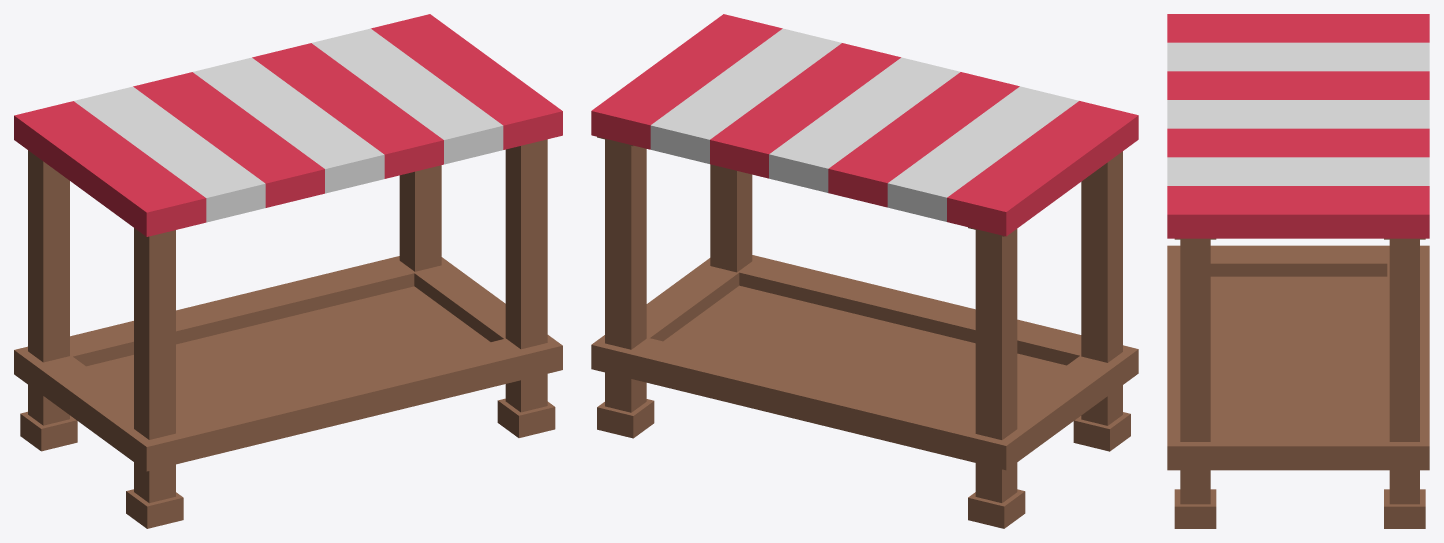
Rendered from market stall1.fbx.
3 views of the same model, side by side, from view 1: azimuth 30°, elevation 25°; view 2: azimuth 150°, elevation 25°; view 3: azimuth 270°, elevation 25° (orthographic).
Visible parts, largest first — view 1: Cube; view 2: Cube; view 3: Cube.
Boxes of the visible parts, x1,y1,x2,y2 form: Cube: (14,14,562,528); Cube: (591,14,1138,528); Cube: (1167,14,1429,528).
Size of the model in its own units: 1687 by 1240 by 932.
